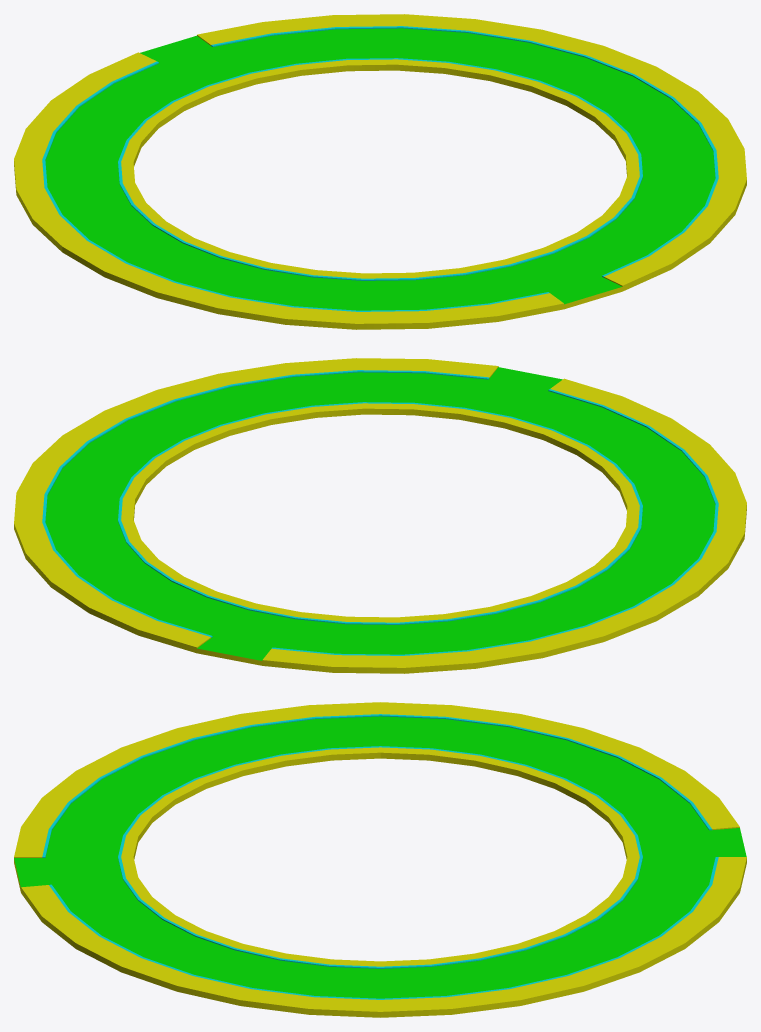
File: circular_road.fbx
3 views of the same model, one above another, from view 1: azimuth 30°, elevation 25°; view 2: azimuth 150°, elevation 25°; view 3: azimuth 270°, elevation 25° (orthographic).
Visible parts, largest first — view 1: circular_road; view 2: circular_road; view 3: circular_road.
Boxes of the visible parts, x1,y1,x2,y2 form: circular_road: [14, 14, 746, 329]; circular_road: [14, 358, 746, 673]; circular_road: [14, 702, 746, 1017].
Bounding box in the file's own units: 3400 × 30.14 × 3400.
